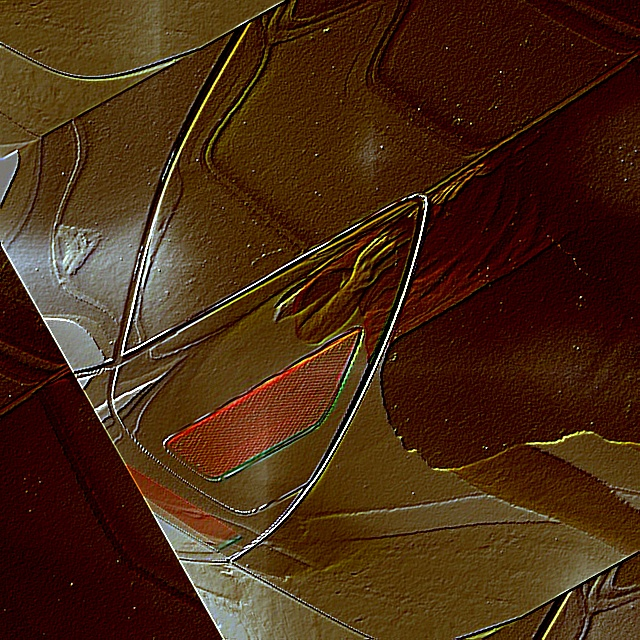reflector: (158, 327, 392, 497)
